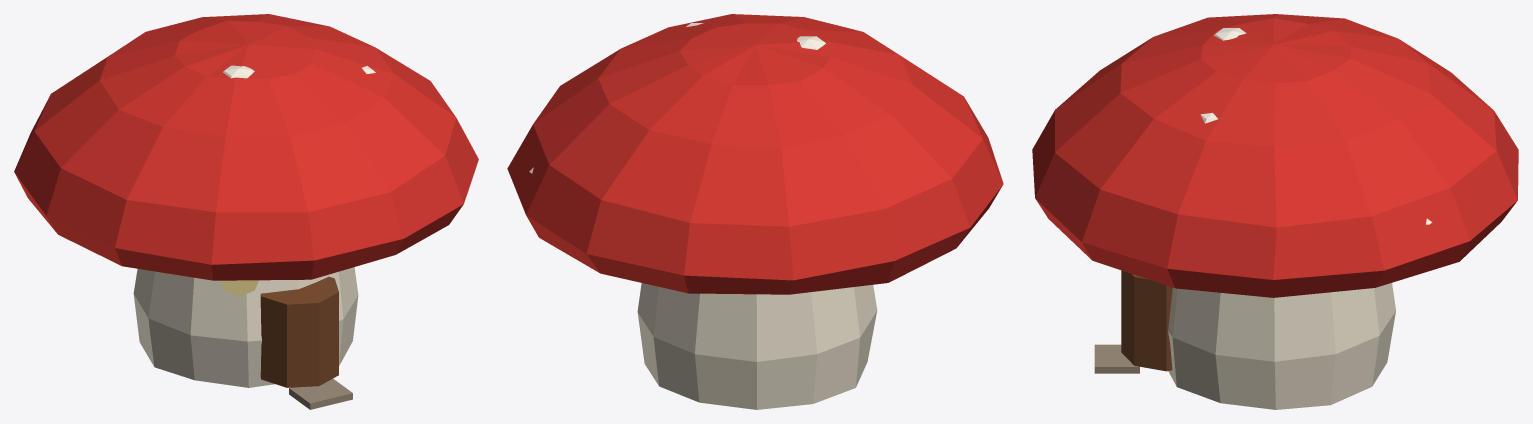
File: mushroomHouse.fbx
3 views of the same model, side by side, from view 1: azimuth 30°, elevation 25°; view 2: azimuth 150°, elevation 25°; view 3: azimuth 270°, elevation 25° (orthographic). The views are drawn at different scales.
Parts seen in each view (by area): view 1: cap, mushroomHouse; view 2: cap, mushroomHouse; view 3: cap, mushroomHouse.
Boxes of the visible parts, x1,y1,x2,y2 form: cap: [14, 14, 478, 280]; mushroomHouse: [133, 267, 358, 409]; cap: [507, 14, 1003, 294]; mushroomHouse: [637, 283, 877, 409]; cap: [1032, 14, 1518, 297]; mushroomHouse: [1094, 270, 1395, 409].
Size of the model in its own units: 5.26 by 3.75 by 5.16.
